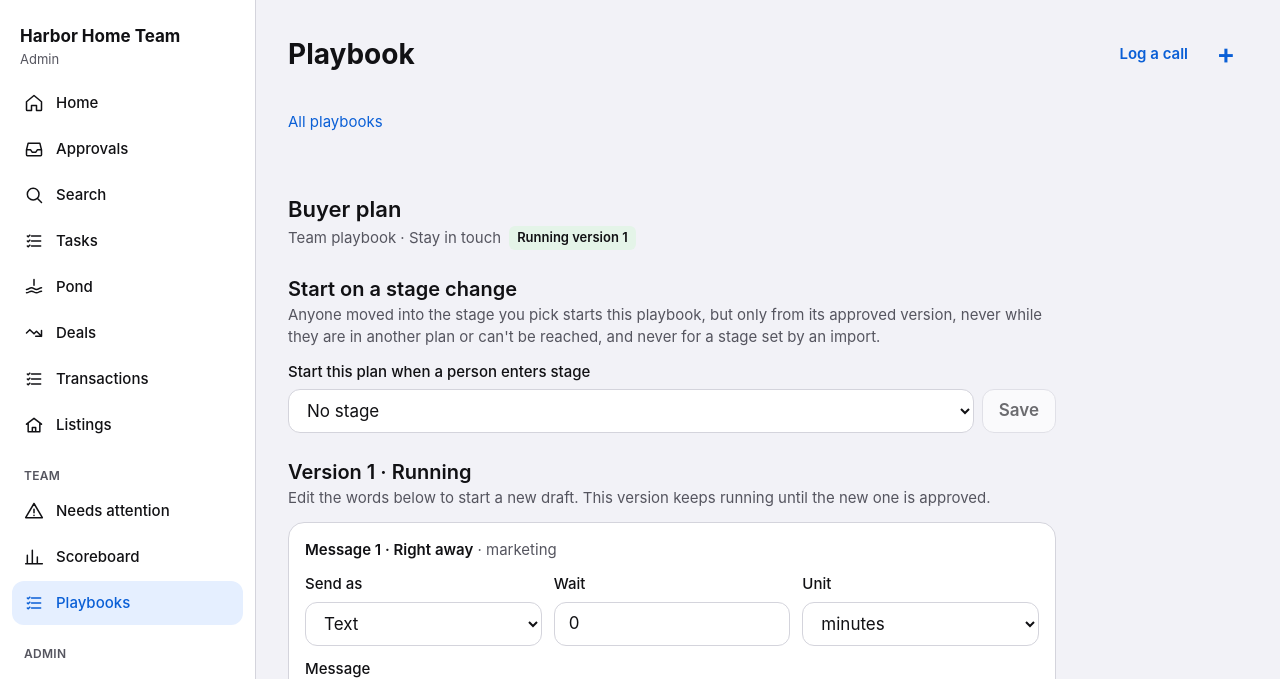
Test: R-PAR-16 "Start this plan when a person enters stage …" (PARITY_PLAN §1 action plan on stage change) › 409 AUTO_ENROLL_STAGE_TAKEN is said in plain words with the stage's label and a link to the playbook that holds it
The image size is (1280, 679).
Select "Active buyer" in the dropdown labelled "Start this plan when a person enters stage": [631, 411] box [288,389,974,433]
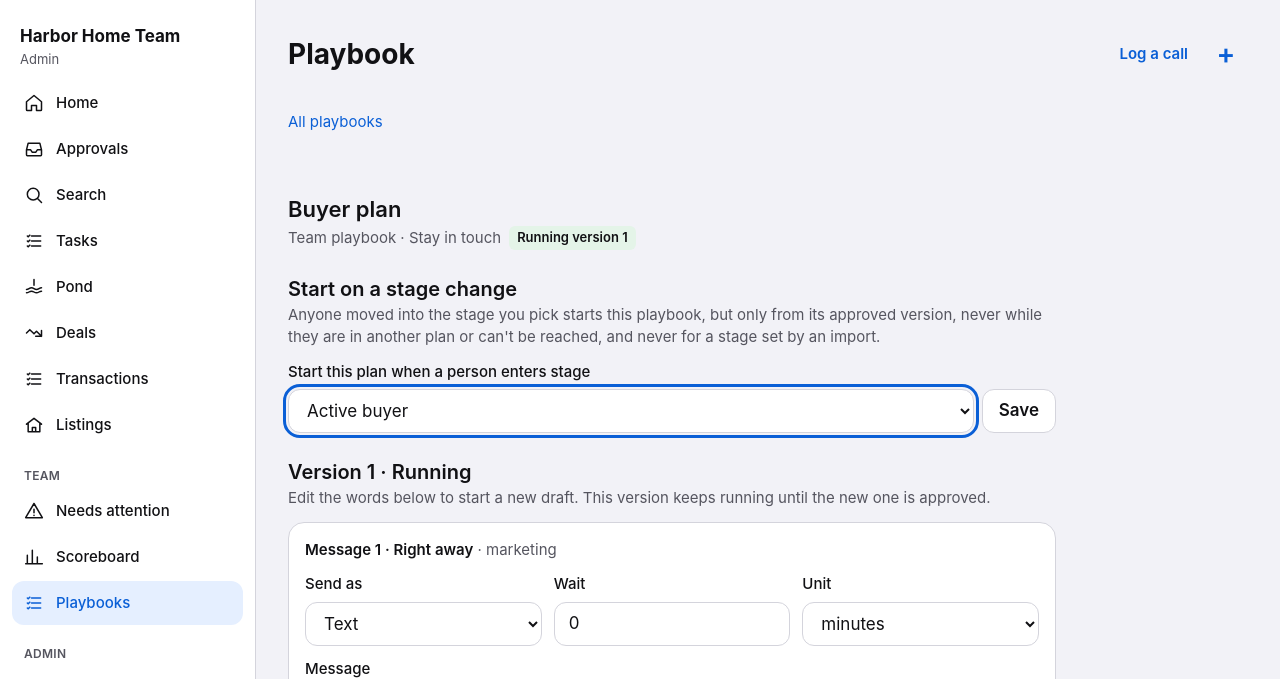
Click the button "Save": [1019, 411] box [982,389,1056,433]
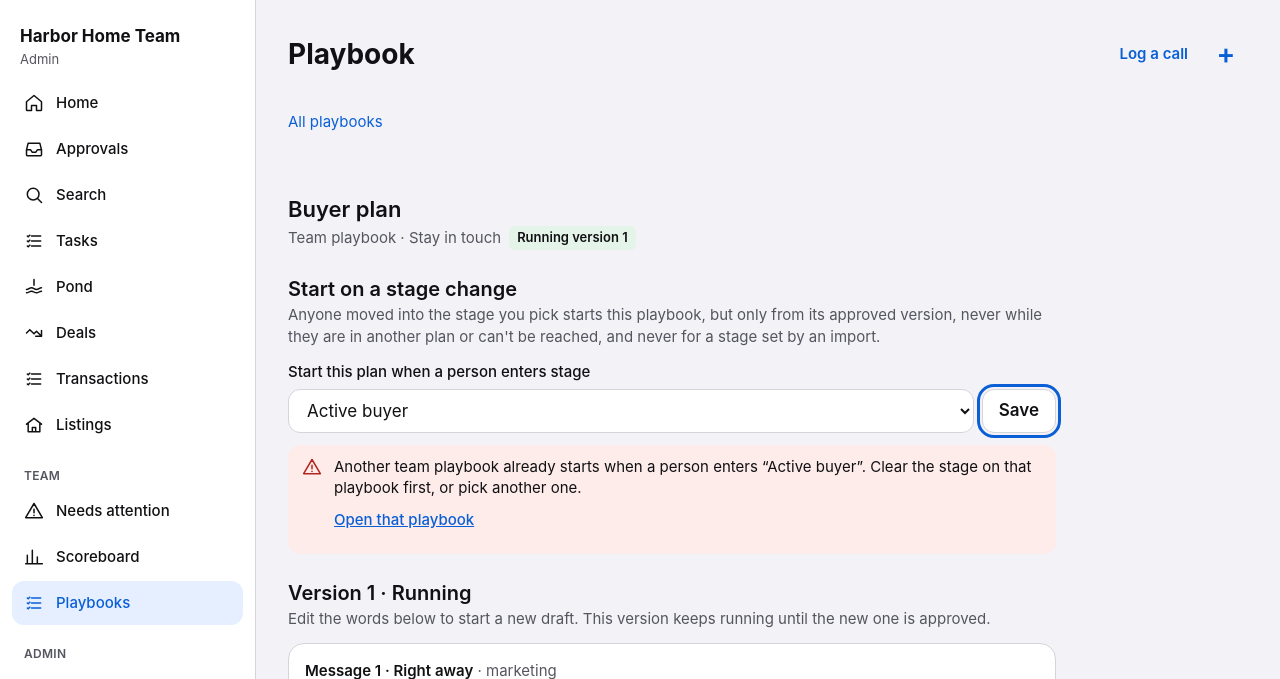
Check: the message shows "Another team playbook already starts when a person enters “Active buyer”. Clear the stage on that playbook first, or pick another one.", box [334,457,1031,497]
